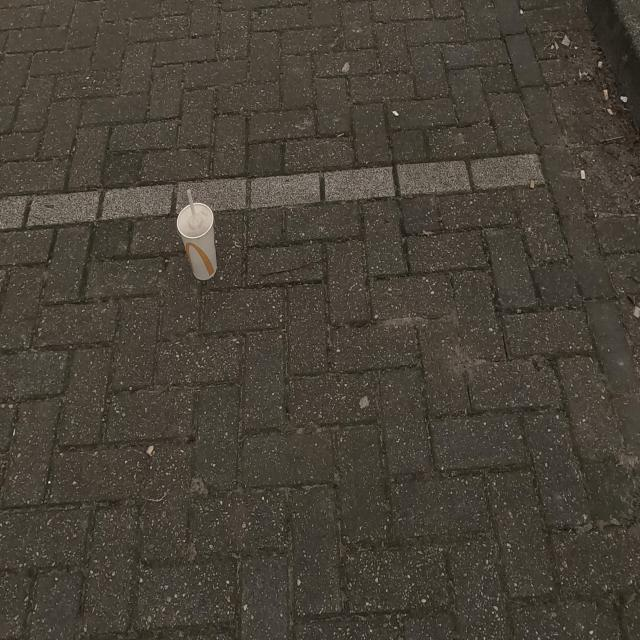Cup: (174, 200, 218, 282)
